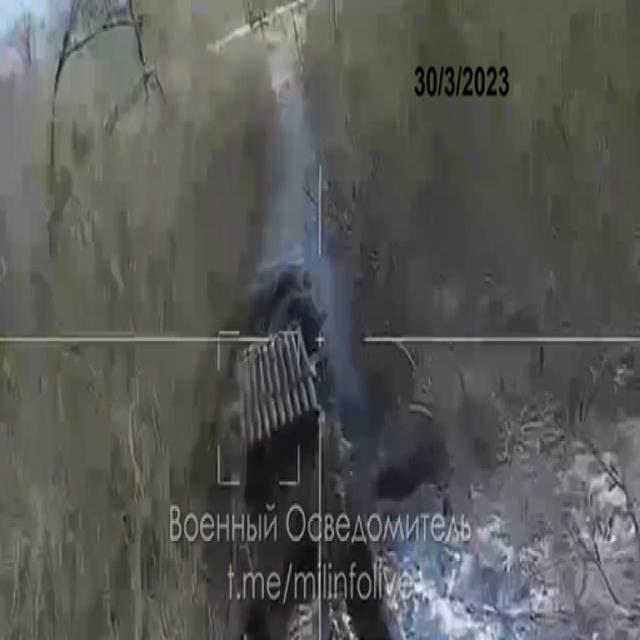MLRS: (226, 233, 332, 527)
